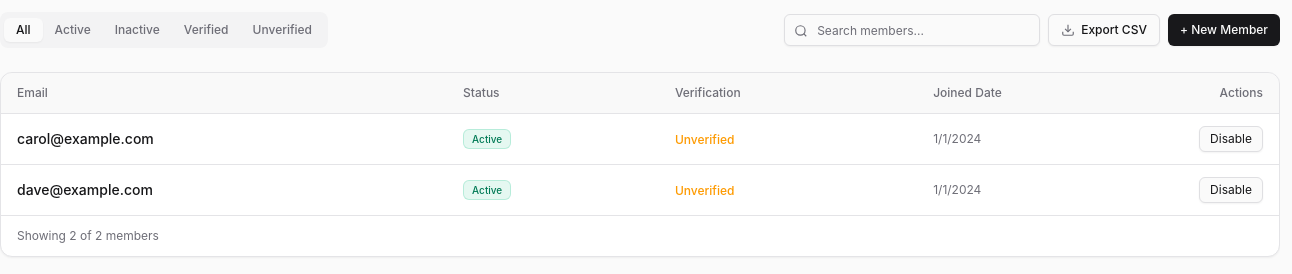
Test case: MembersView › filters members by the search box
The width and height of the screenshot is (1292, 274).
expect the text "carol@example.com" is shown: met, box [1, 113, 447, 164]
Type "dave" into the search field with placeholder "Search members...".
click(912, 30); type("dave")  # box [784, 14, 1040, 46]
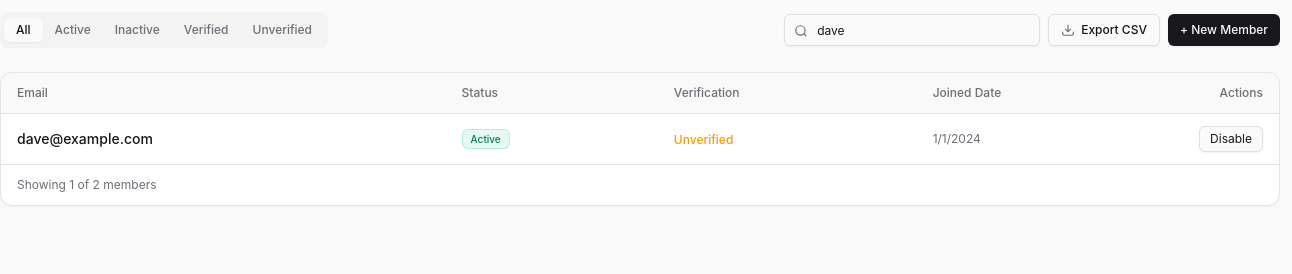
expect the text "dave@example.com" is shown: met, box [1, 113, 446, 164]
expect the text "carol@example.com" is gone: met
